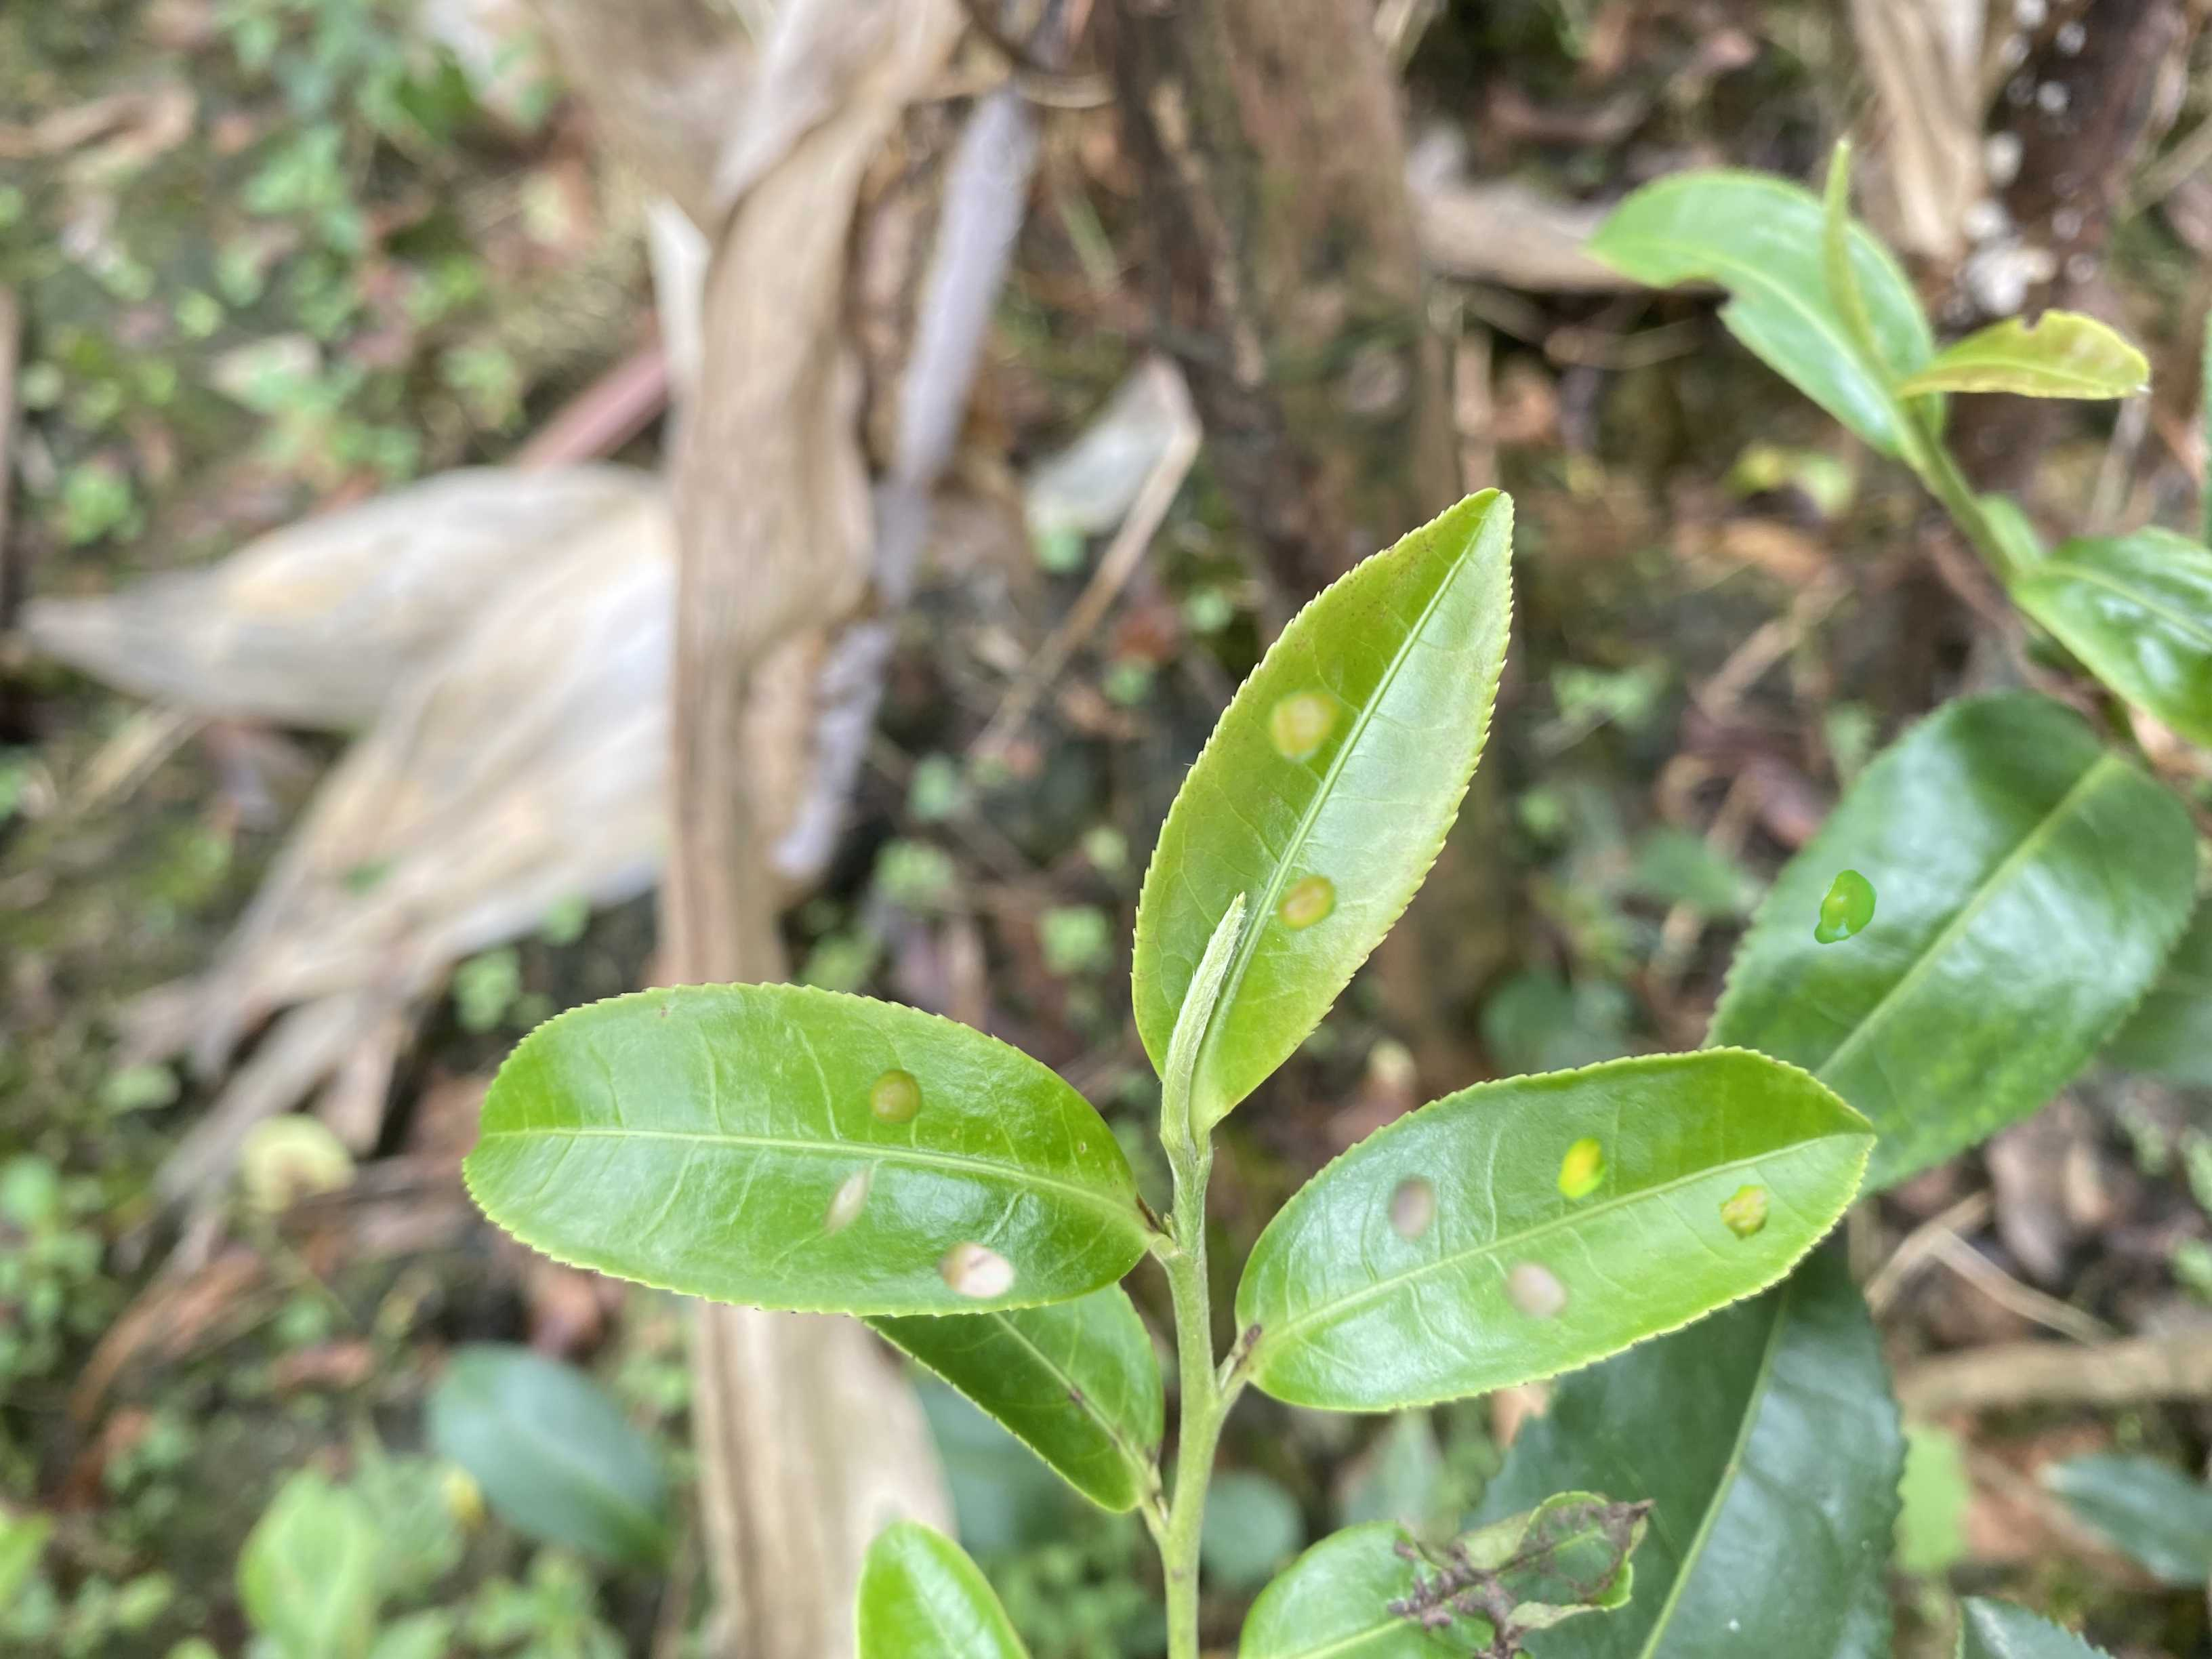chabing_high: (1130, 488, 1517, 1133), (1231, 1046, 1881, 1415), (463, 985, 1148, 1312)
chabing_low: (1702, 695, 2200, 1195)
chihuo_low: (1580, 166, 1946, 455), (1893, 310, 2146, 403)
tanju_high: (1237, 1490, 1656, 1656)
